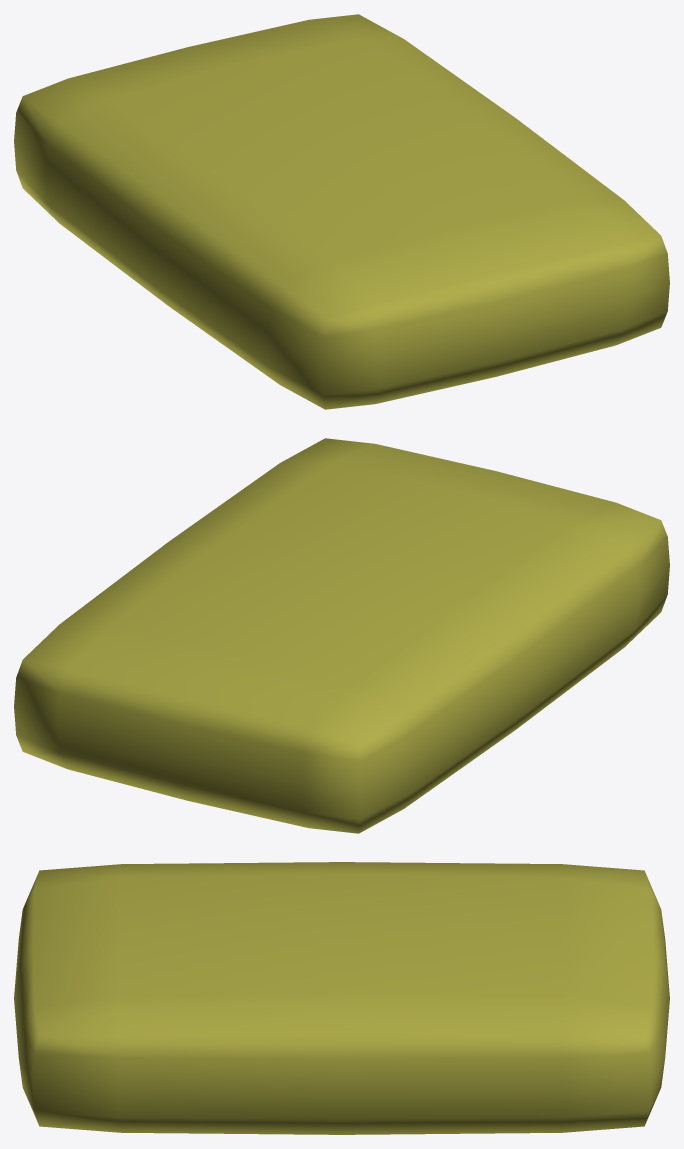
Rendered from savon2.fbx.
3 renders of one model, top to bottom at view 1: azimuth 30°, elevation 25°; view 2: azimuth 150°, elevation 25°; view 3: azimuth 270°, elevation 25°, orthographic.
Visible parts, largest first — view 1: pCube1; view 2: pCube1; view 3: pCube1.
Part boxes in pixels (x1=…): pCube1: x1=14, y1=14, x2=669, y2=409; pCube1: x1=14, y1=438, x2=669, y2=833; pCube1: x1=14, y1=862, x2=669, y2=1134.
Bounding box in the file's own units: 0.6691 × 0.2321 × 1.
